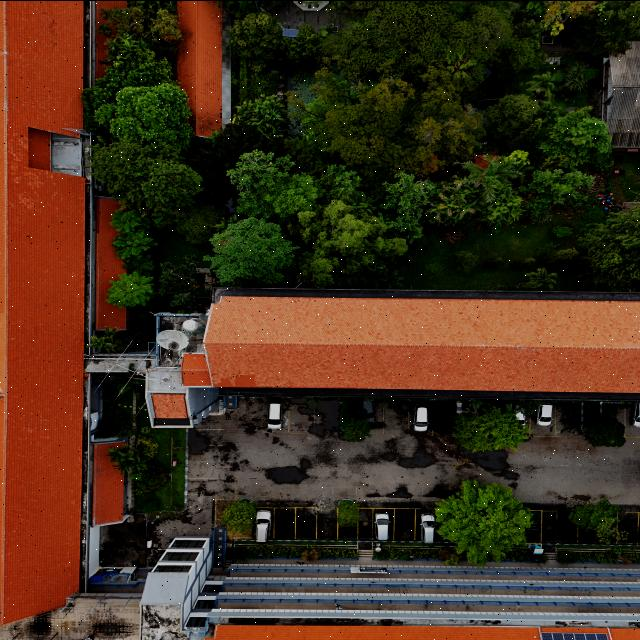Tree: (430, 480, 534, 562), (204, 214, 294, 286), (447, 402, 533, 452), (104, 206, 164, 260), (101, 266, 163, 310), (226, 13, 286, 56), (328, 394, 378, 442), (148, 3, 184, 45)
